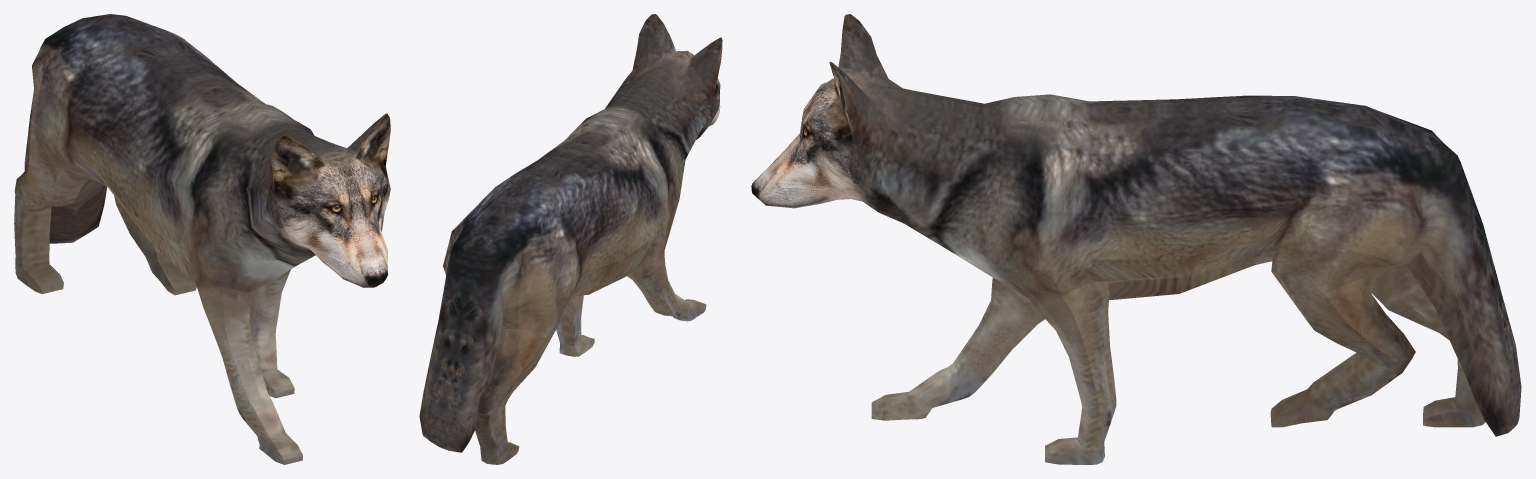
File: wolf.glb
3 views of the same model, side by side, from view 1: azimuth 30°, elevation 25°; view 2: azimuth 150°, elevation 25°; view 3: azimuth 270°, elevation 25° (orthographic). The views are drawn at different scales.
Visible parts, largest first — view 1: Wolf.001_Cube.001; view 2: Wolf.001_Cube.001; view 3: Wolf.001_Cube.001.
Boxes of the visible parts, x1=… form: Wolf.001_Cube.001: x1=14, y1=14, x2=390, y2=464; Wolf.001_Cube.001: x1=419, y1=14, x2=722, y2=464; Wolf.001_Cube.001: x1=751, y1=14, x2=1521, y2=464.
Size of the model in its own units: 0.3895 by 0.8619 by 1.51.
1 material, 1 textured.
